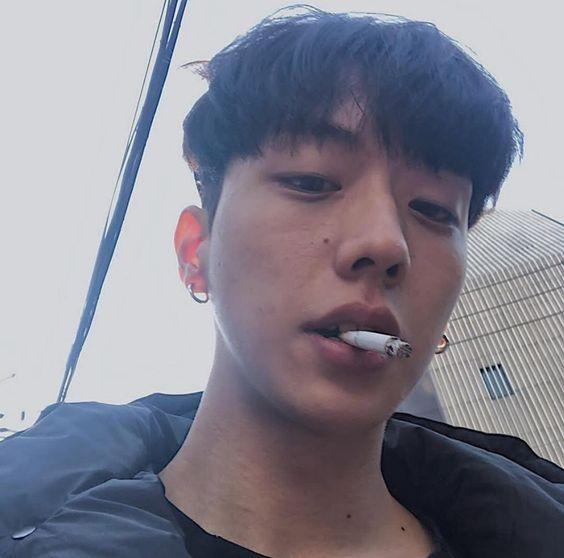cigarette: (337, 330, 411, 358)
